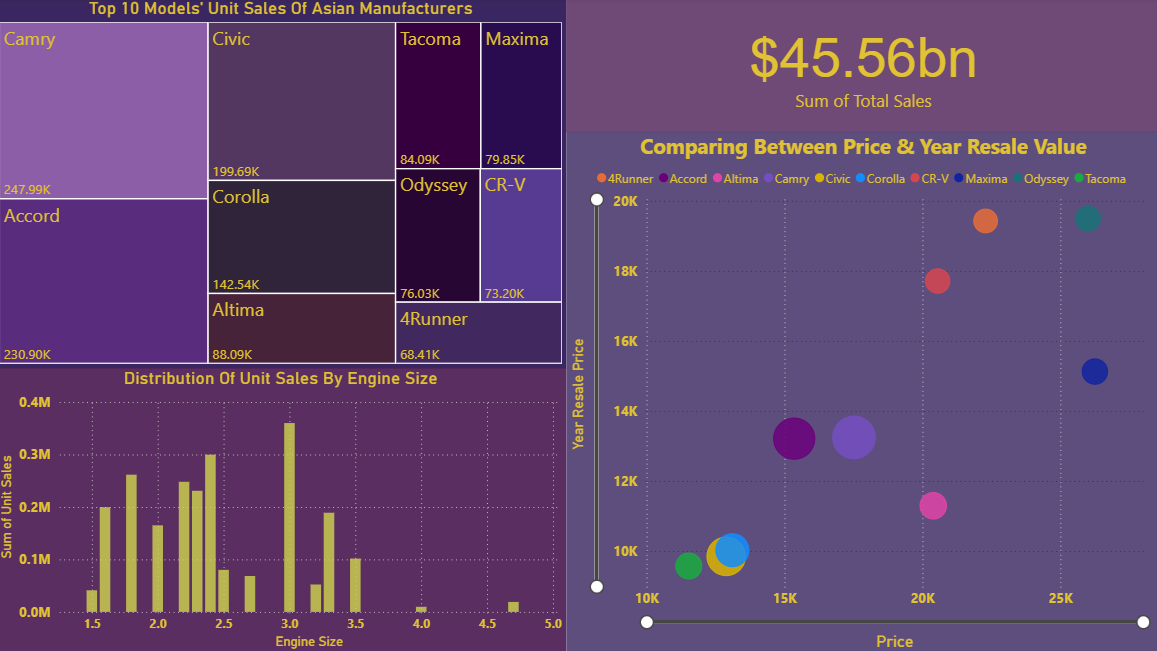

This screenshot's page, from the dashboard's own definition file:
{"tool":"powerbi","page":{"name":"Asia","canvas":[1280,720],"ordinal":1},"visuals":[{"type":"treemap","title":"Top 10 Models'' Unit Sales Of Asian Manufacturers","fields":{"Group":["Car_sales.Model"],"Values":["Sum(Car_sales.Unit Sales)"]},"box":[0,0,627.5,406.2],"z":0},{"type":"clusteredColumnChart","title":"Distribution Of Unit Sales By Engine Size","fields":{"Category":["Car_sales.Engine Size"],"Y":["Sum(Car_sales.Unit Sales)"]},"box":[0,406.2,627.5,313.8],"z":1000},{"type":"scatterChart","title":"Comparing Between Price & Year Resale Value","fields":{"X":["Sum(Car_sales.Price)"],"Y":["Sum(Car_sales.Year Resale Value)"],"Category":["Car_sales.Model"],"Series":["Car_sales.Model"],"Size":["Sum(Car_sales.Unit Sales)"]},"box":[627.5,146.2,652.5,573.8],"z":2000},{"type":"card","fields":{"Values":["Sum(Car_sales.Total Sales)"]},"box":[627.1,0,653.2,146.8],"z":3000}]}

Visuals, with their boxes in screenshot pixels (x1, y1, x2, y2), scaled from the page's 1280x720 canvas onto the 1157x651 screenshot:
"Top 10 Models'' Unit Sales Of Asian Manufacturers" treemap: detection(0, 0, 567, 367)
"Distribution Of Unit Sales By Engine Size" clusteredColumnChart: detection(0, 367, 567, 650)
"Comparing Between Price & Year Resale Value" scatterChart: detection(567, 132, 1156, 650)
card - Sum(Car_sales.Total Sales): detection(567, 0, 1156, 133)
